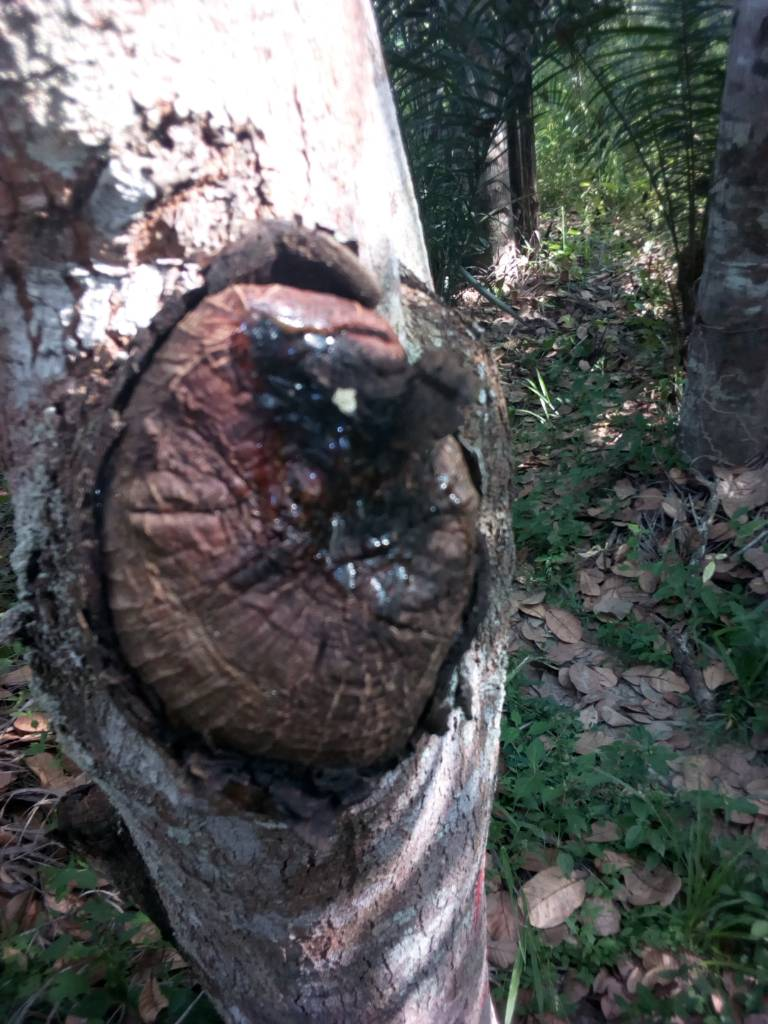ploceadorus ferrugineus: (82, 218, 513, 830)
